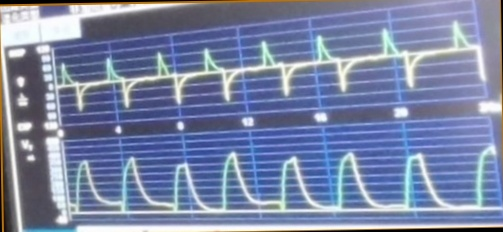Flow: (57, 26, 482, 113)
Leakage Volume: (69, 140, 495, 220)
